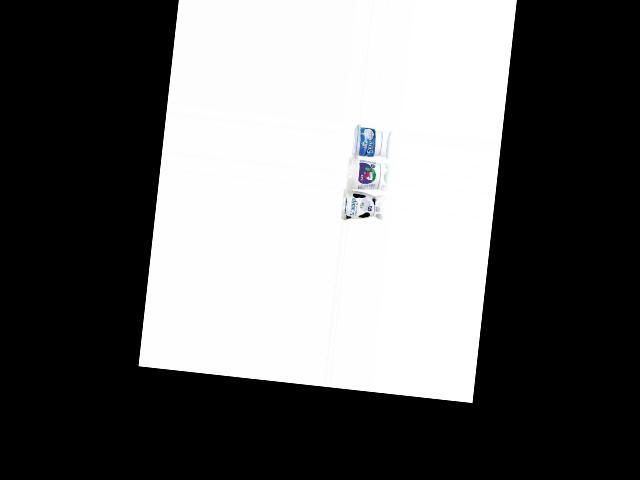cotage: (348, 123, 387, 161)
